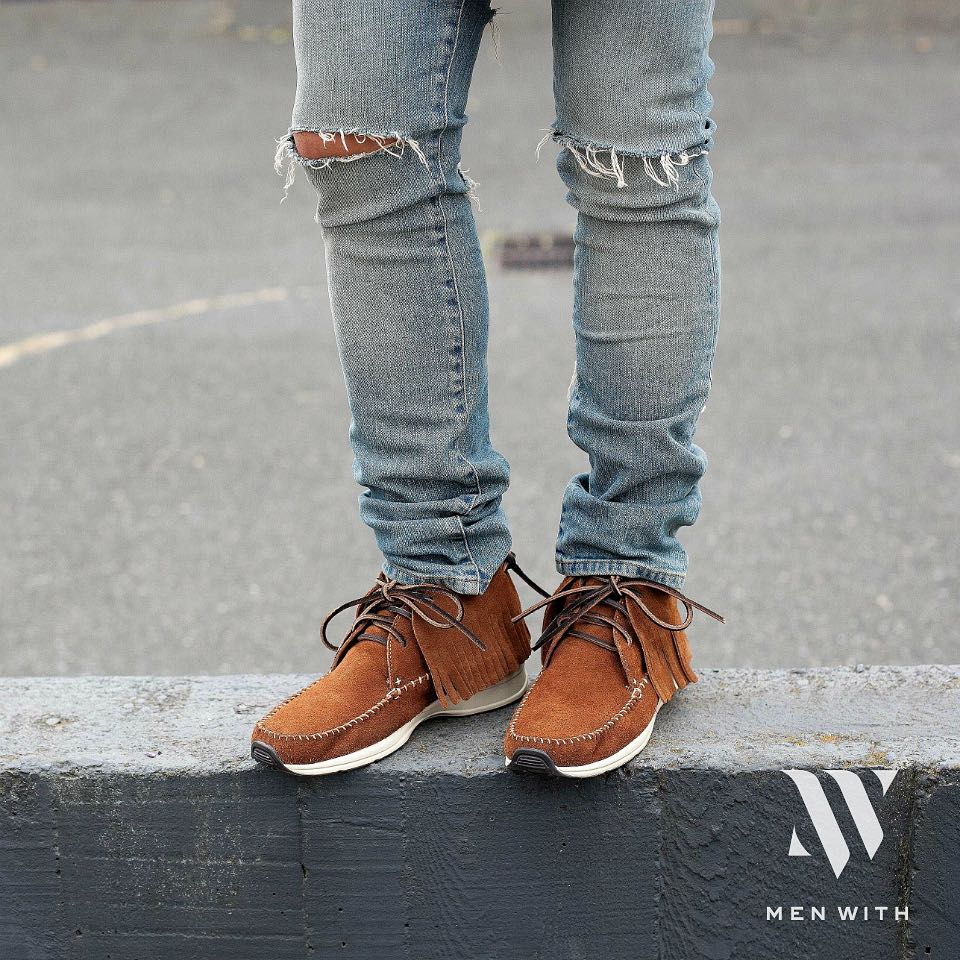sneaker: (229, 518, 550, 811), (479, 521, 718, 796)
